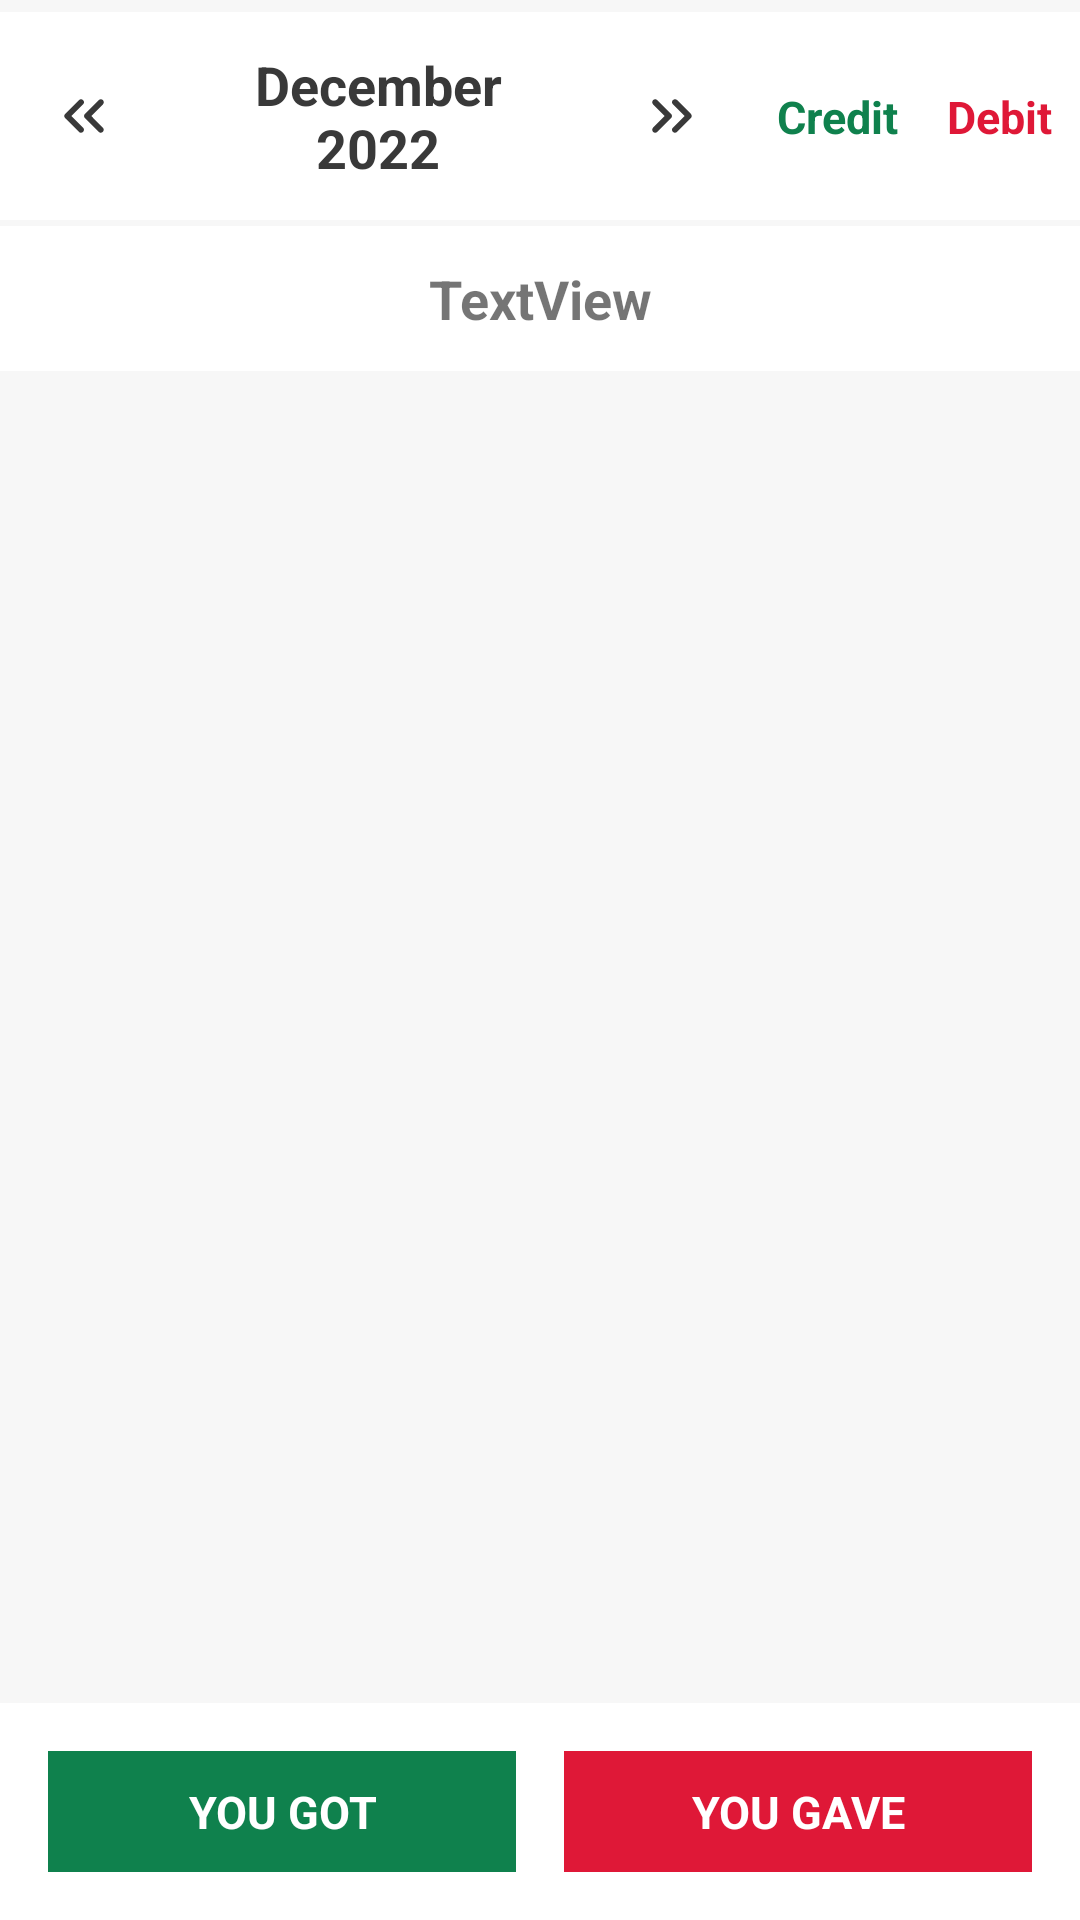

Icon bounding boxes for this 1080*1920 phone screenshot, format (x1, y1, x2, y2):
arrow left: (64, 99, 104, 133)
arrow right: (652, 99, 692, 133)
